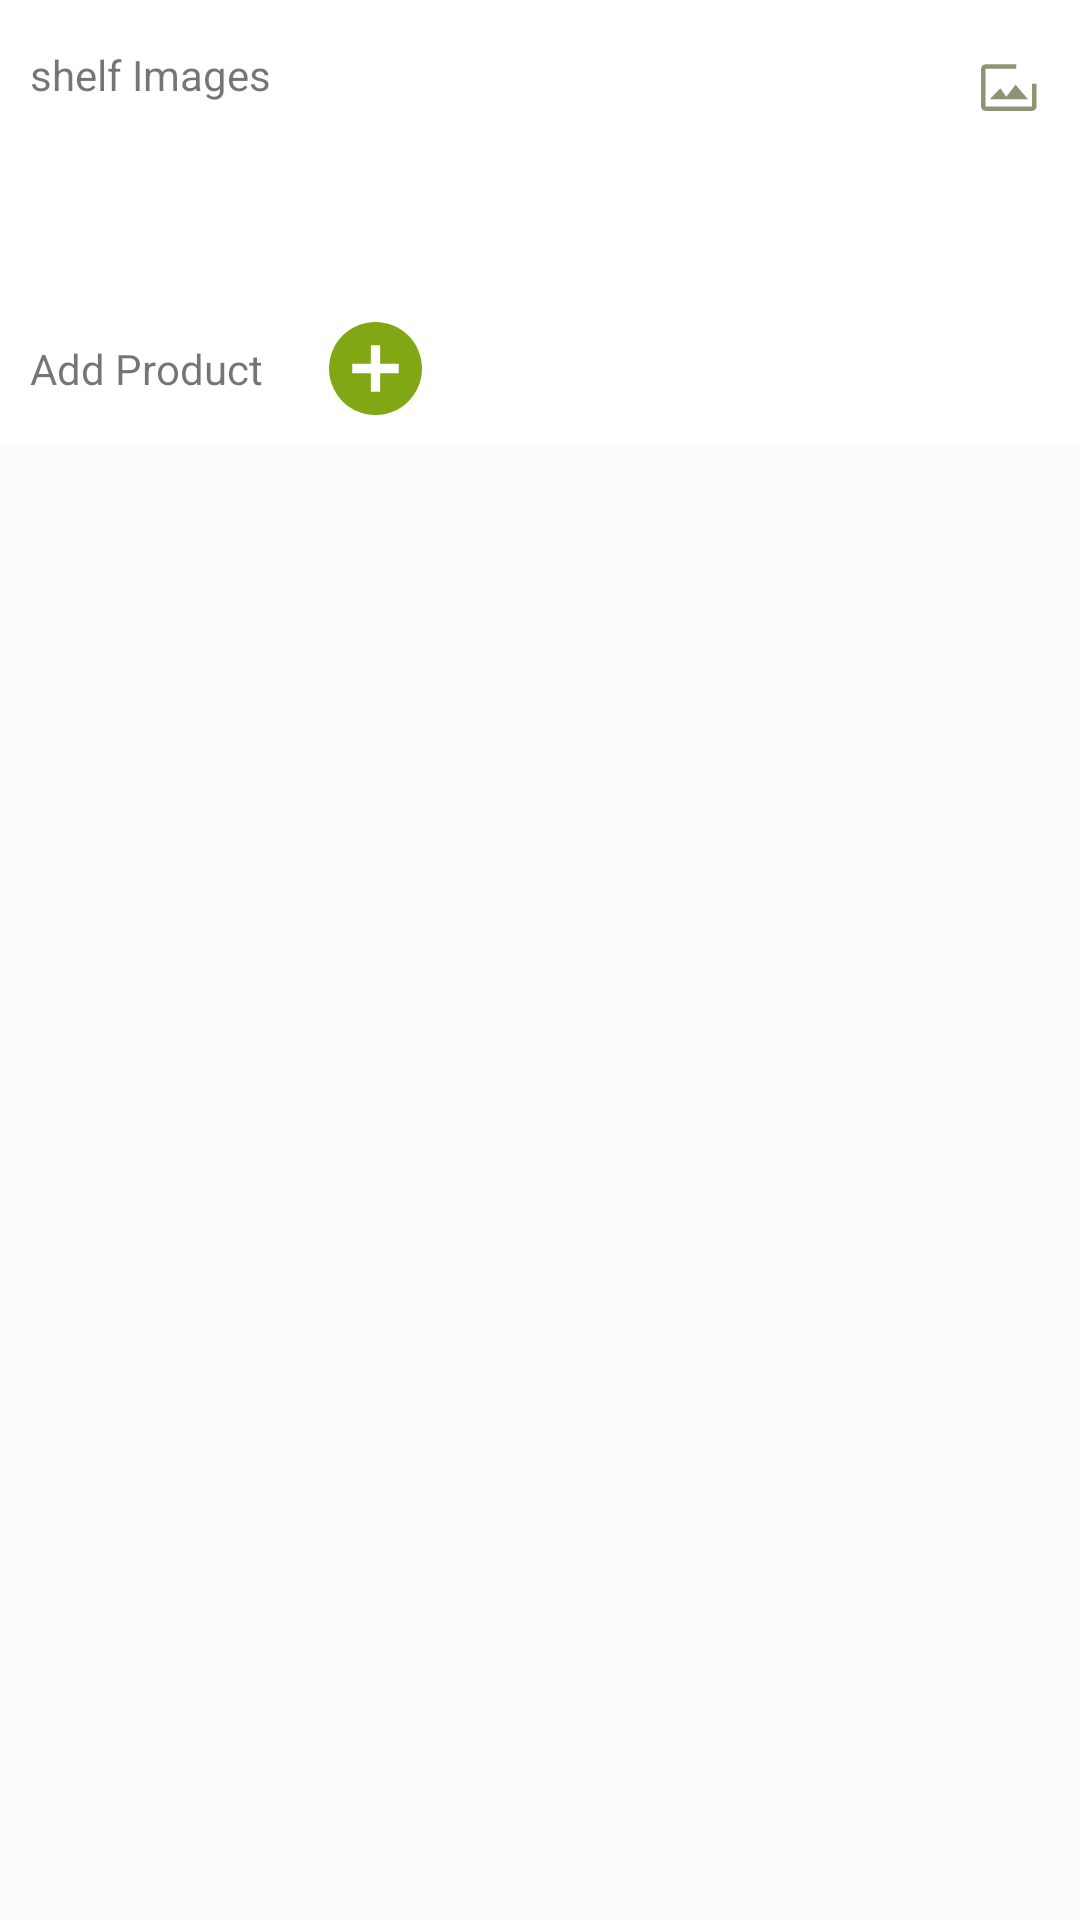

Screen size 1080px x 1920px. Icon name, then its box in pixels as region(x1, y1, x2, y2):
add circle: region(329, 322, 422, 415)
